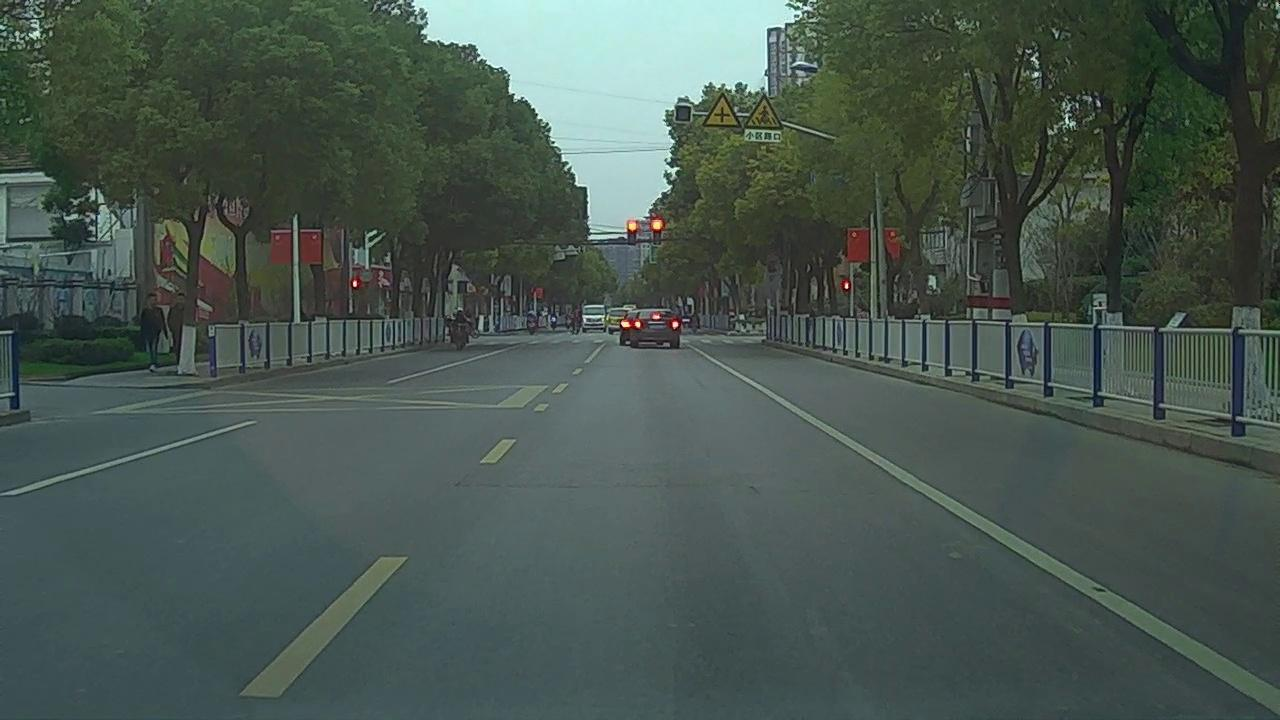traffic_light: (653, 218, 664, 244), (628, 220, 636, 244)
